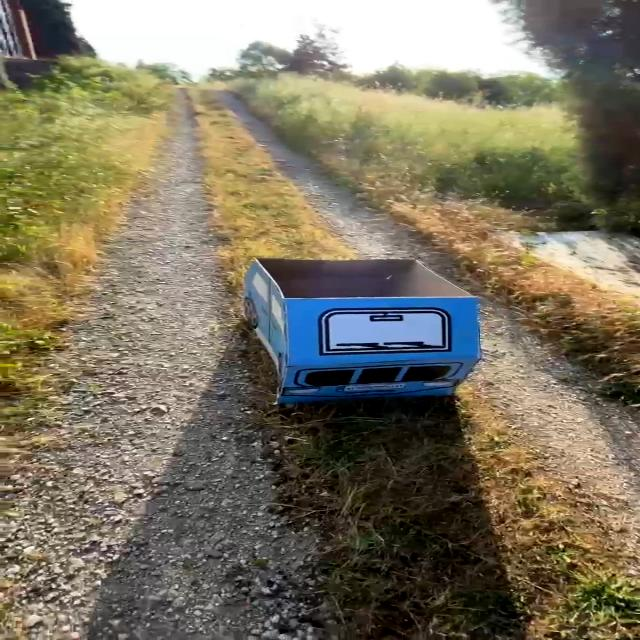blue_car: (188, 227, 526, 430)
